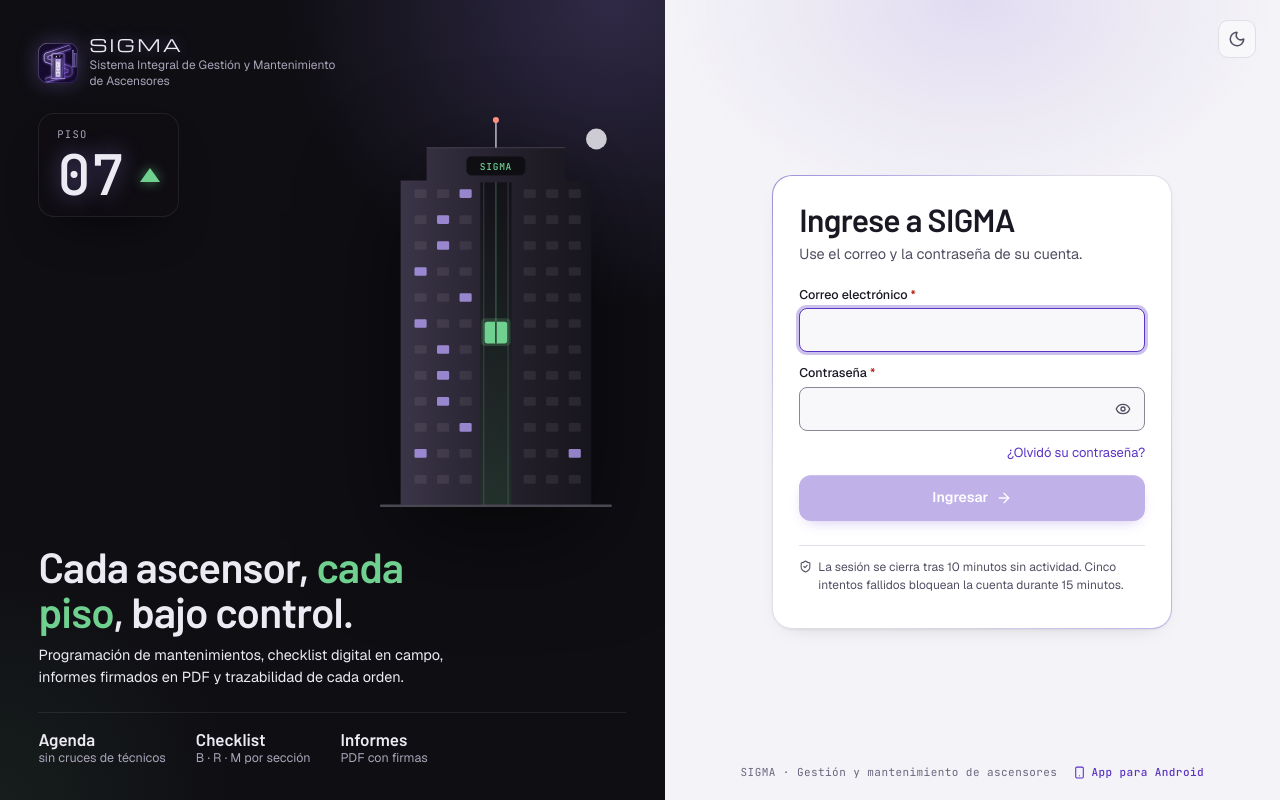
Test case: inicio de sesión › muestra el mensaje de la API cuando las credenciales son incorrectas
Type "admin@sigma.test" into the field labelled "Correo electrónico *" at [972, 330], box [799, 308, 1145, 352]
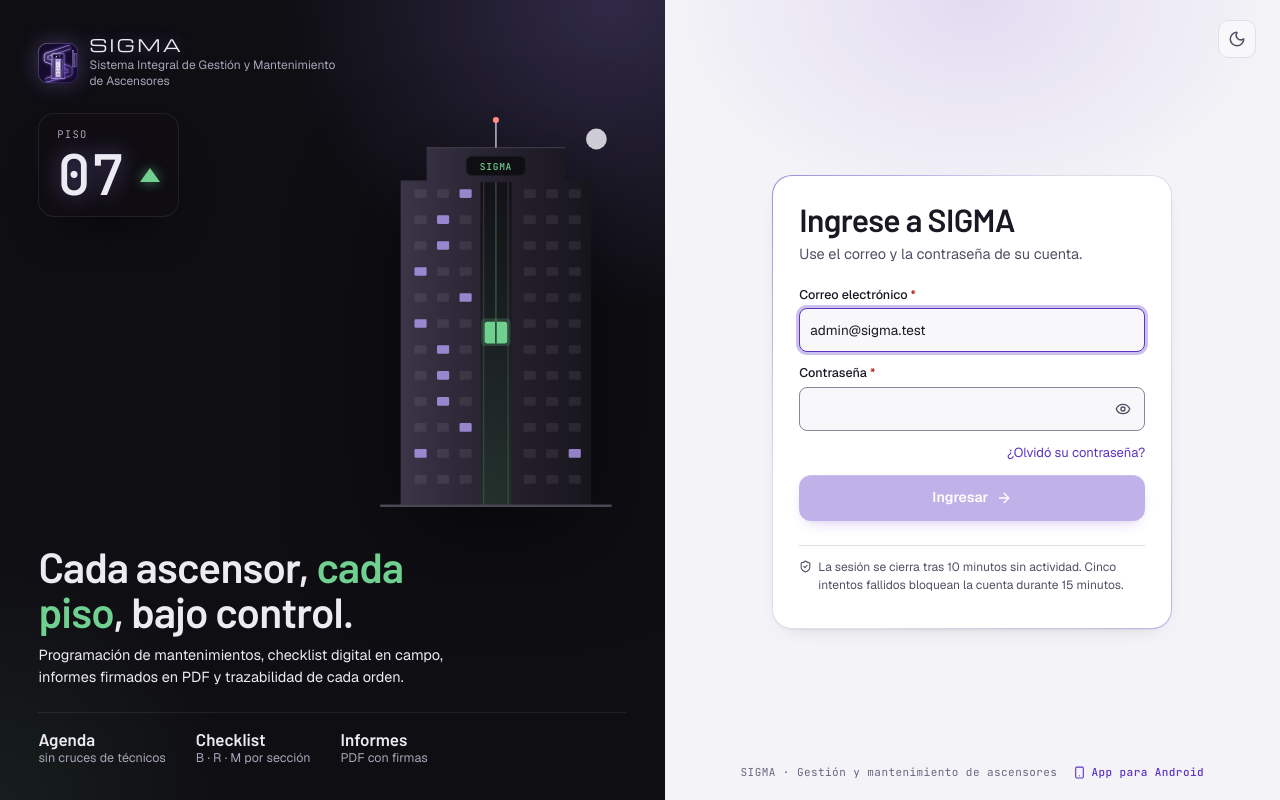
Type "incorrecta" into the password field labelled "Contraseña *" at [972, 409], box [799, 387, 1145, 431]
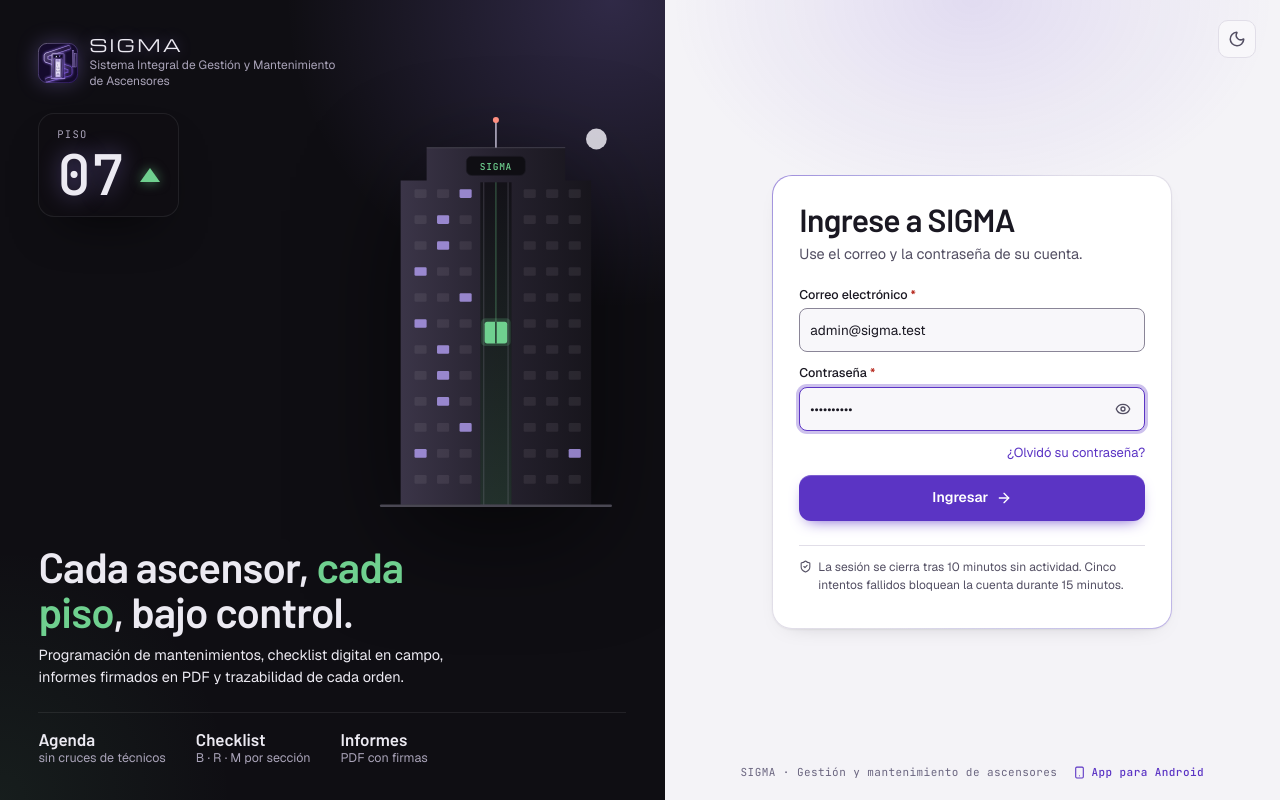
Click the button "Ingresar" at [972, 498], box [799, 474, 1145, 520]
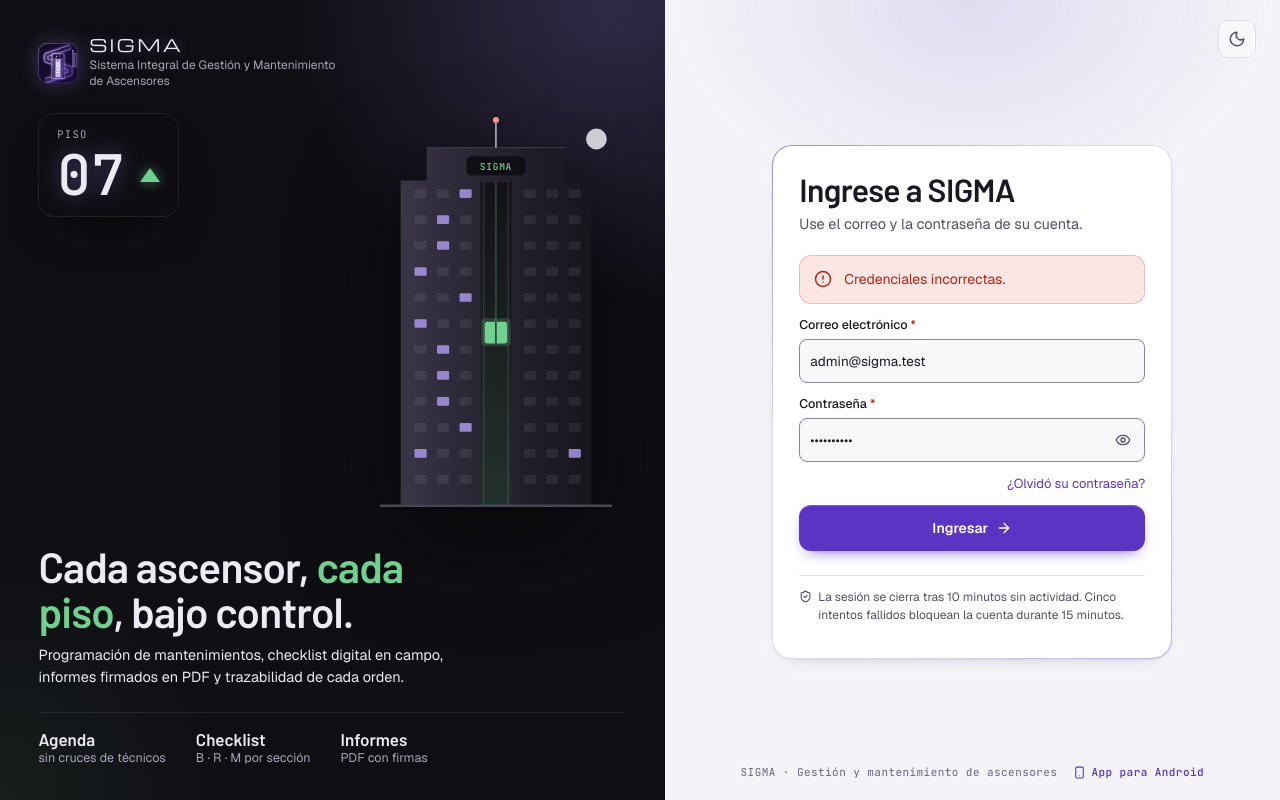
Now the text "Credenciales incorrectas." is shown, box [844, 269, 1005, 290]
